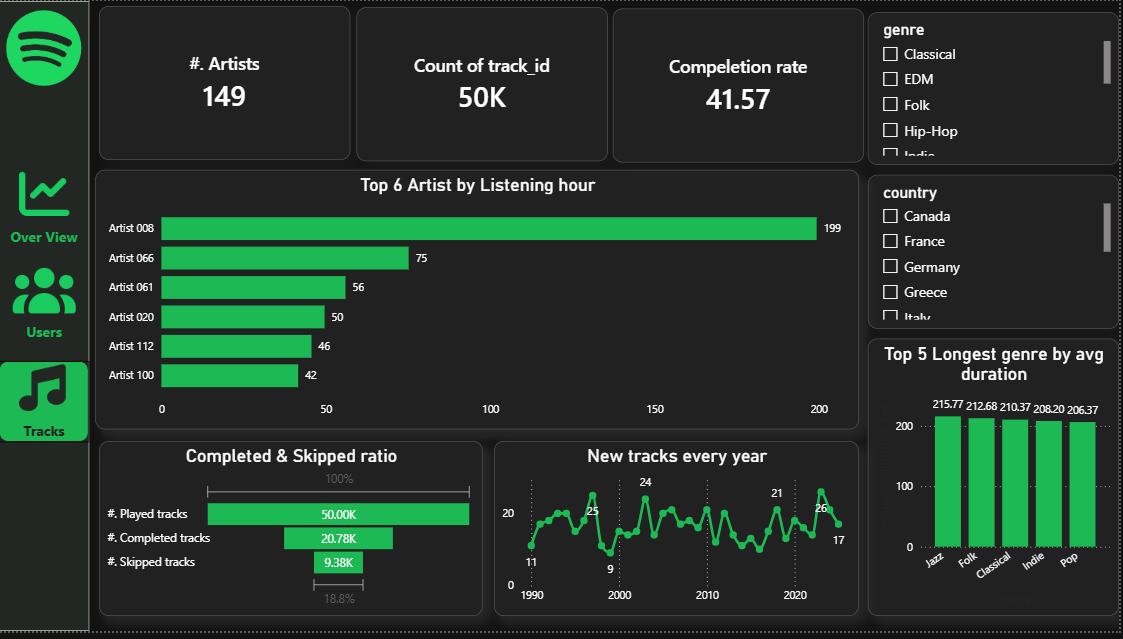

The page's visual inventory and layout, read from the dashboard file:
{"tool":"powerbi","page":{"name":"Tracks","canvas":[1280,720],"ordinal":3},"visuals":[{"type":"shape","box":[0,0,103.3,720],"z":0},{"type":"shape","box":[108.3,1.9,288.3,175],"z":1000},{"type":"shape","box":[400,5.2,288.3,175],"z":2000},{"type":"shape","box":[695,6.9,288.3,175],"z":3000},{"type":"shape","box":[988.3,8.5,288.3,175],"z":4000},{"type":"shape","box":[106.6,181,288.3,175],"z":5000},{"type":"shape","box":[398.3,184.3,288.3,175],"z":6000},{"type":"shape","box":[695.3,186.3,288.3,175],"z":7000},{"type":"shape","box":[987,188,288.3,175],"z":8000},{"type":"shape","box":[108.3,360.3,288.3,175],"z":9000},{"type":"shape","box":[399.9,363.7,288.3,175],"z":10000},{"type":"shape","box":[692.6,364.8,288.3,175],"z":11000},{"type":"shape","box":[983.6,367.3,288.3,175],"z":12000},{"type":"shape","box":[109.6,538.6,288.3,175],"z":13000},{"type":"shape","box":[401.3,541.9,288.3,175],"z":14000},{"type":"shape","box":[693.9,543,288.3,175],"z":15000},{"type":"shape","box":[983.7,545.6,288.3,175],"z":16000},{"type":"image","box":[6.7,8.3,88.3,90],"z":17000},{"type":"image","box":[15,183.3,71.7,75],"z":18000},{"type":"image","box":[15,268.3,71.7,75],"z":19000},{"type":"image","box":[15,356.7,71.7,75],"z":20000},{"type":"areaChart","title":"No. new Users Over time","fields":{"Y":["CountNonNull(dim_user.user_id)"],"Category":["dim_user.dim_date.date_value.Variation.Date Hierarchy.Year","dim_user.dim_date.date_value.Variation.Date Hierarchy.Month"]},"box":[110,192.9,872.9,334.3],"z":20001}]}

Visuals, with their boxes on the page's 1280x720 design canvas (x1, y1, x2, y2). These are canvas units, not pixel positions in the 1123x639 screenshot, which may show the page scaled, cropped or inside an application window:
shape: <region>0, 0, 103, 720</region>
shape: <region>108, 2, 397, 177</region>
shape: <region>400, 5, 688, 180</region>
shape: <region>695, 7, 983, 182</region>
shape: <region>988, 8, 1277, 184</region>
shape: <region>107, 181, 395, 356</region>
shape: <region>398, 184, 687, 359</region>
shape: <region>695, 186, 984, 361</region>
shape: <region>987, 188, 1275, 363</region>
shape: <region>108, 360, 397, 535</region>
shape: <region>400, 364, 688, 539</region>
shape: <region>693, 365, 981, 540</region>
shape: <region>984, 367, 1272, 542</region>
shape: <region>110, 539, 398, 714</region>
shape: <region>401, 542, 690, 717</region>
shape: <region>694, 543, 982, 718</region>
shape: <region>984, 546, 1272, 721</region>
image: <region>7, 8, 95, 98</region>
image: <region>15, 183, 87, 258</region>
image: <region>15, 268, 87, 343</region>
image: <region>15, 357, 87, 432</region>
"No. new Users Over time" areaChart: <region>110, 193, 983, 527</region>
